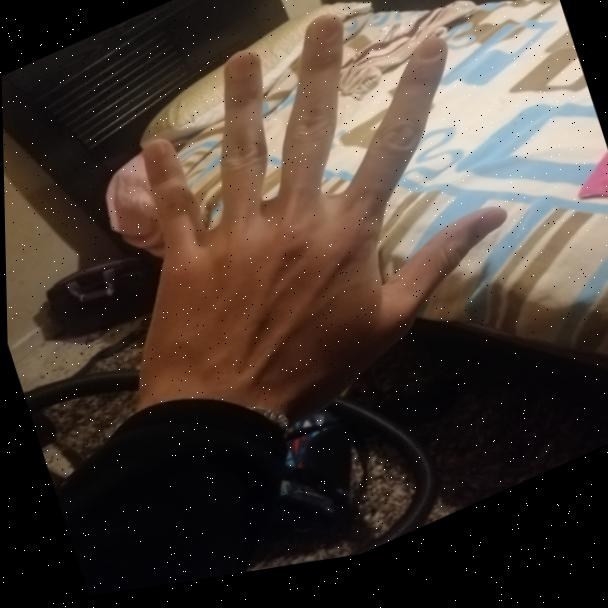five: (57, 0, 541, 473)
